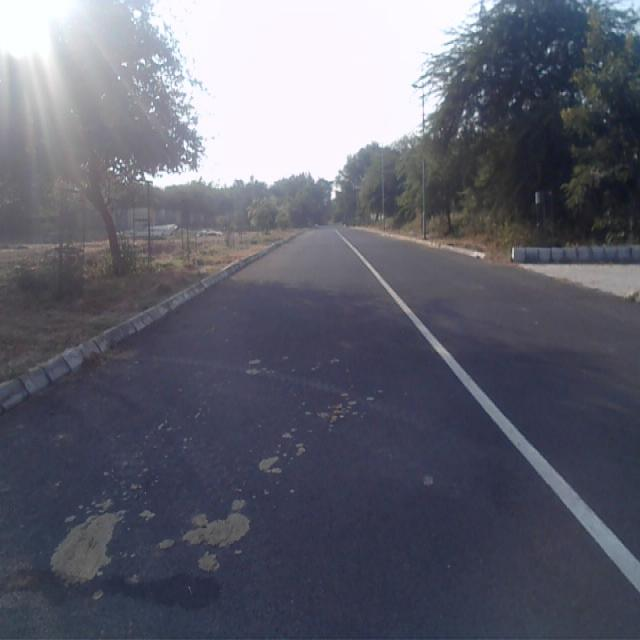lane: (0, 231, 640, 640)
